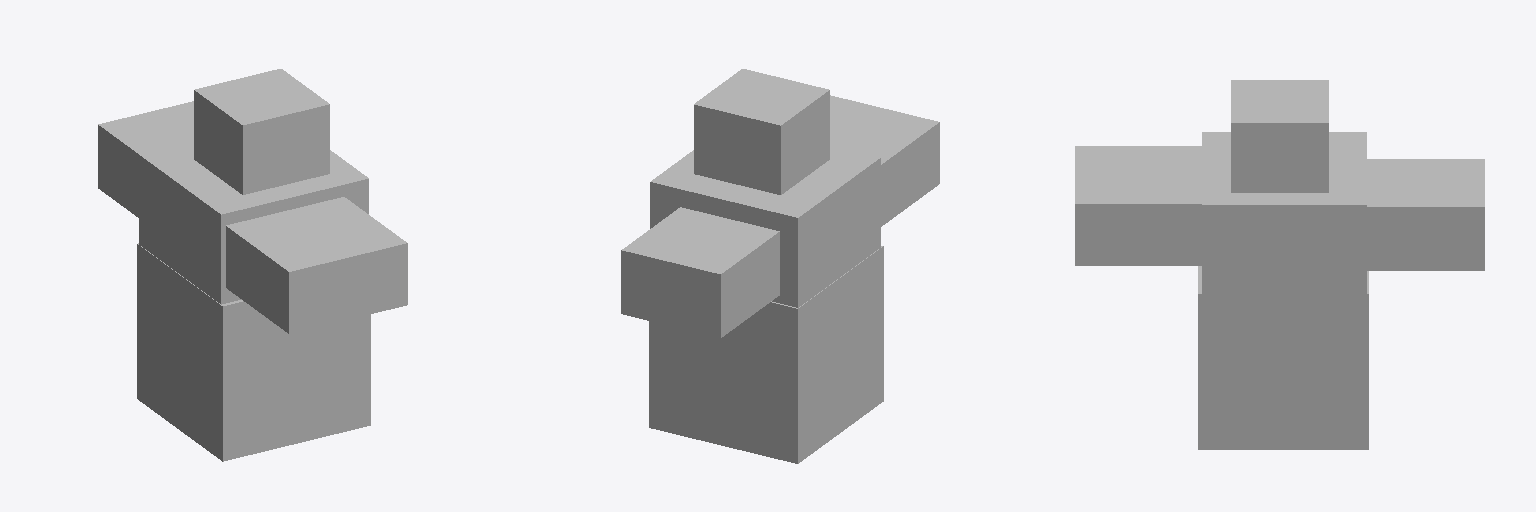
File: snowman.obj
The picture shows the model from 3 angles: view 1: azimuth 30°, elevation 25°; view 2: azimuth 150°, elevation 25°; view 3: azimuth 270°, elevation 25°; orthographic projection.
Visible parts, largest first — view 1: Cube; view 2: Cube; view 3: Cube.
Part boxes in pixels (x1,y1,x2,y2): Cube: (98, 69, 407, 461); Cube: (621, 69, 939, 463); Cube: (1075, 80, 1484, 449).
Bounding box in the file's own units: 2.01 × 4.05 × 4.79.